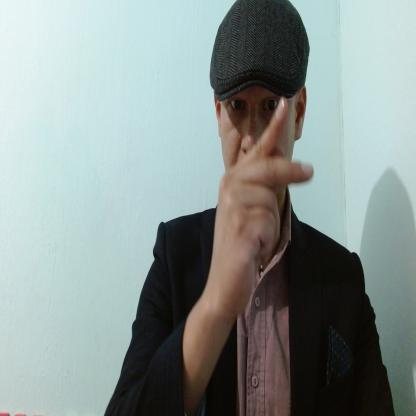P: (208, 93, 315, 322)
